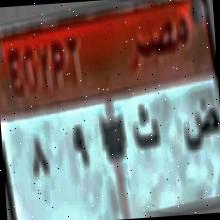8: (28, 133, 50, 183)
9: (71, 120, 92, 171)
daad: (180, 96, 220, 151)
thaa: (130, 100, 162, 152)
